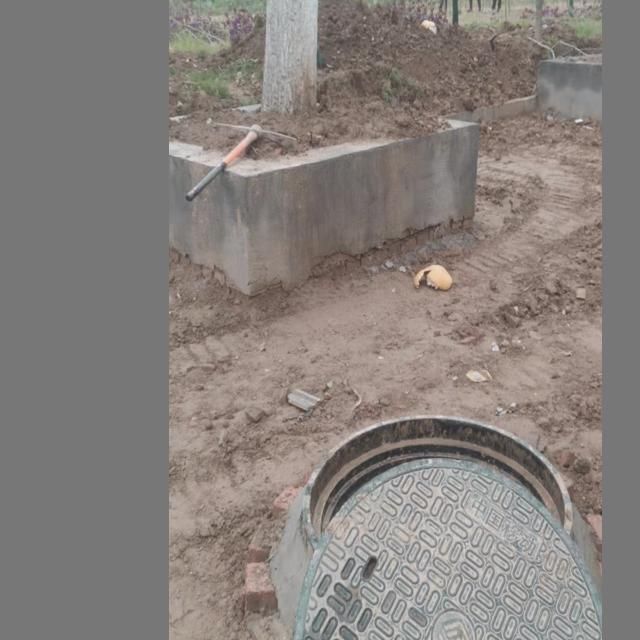uncovered: (288, 413, 596, 640)
